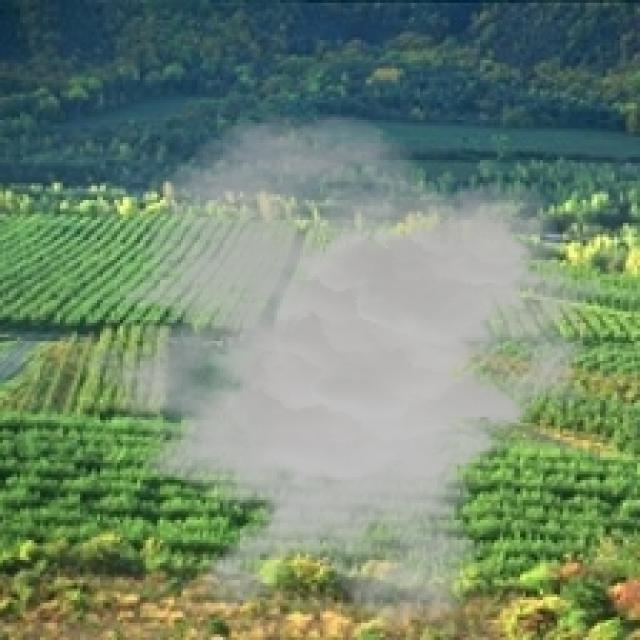smoke: (51, 111, 606, 632)
